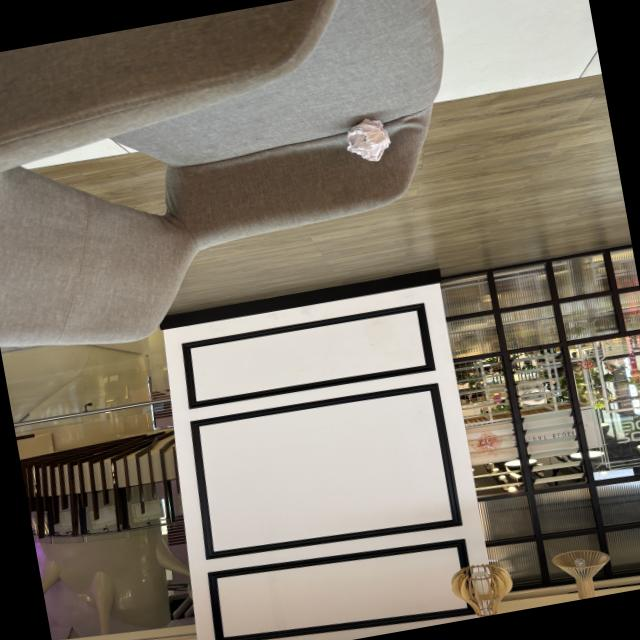crumpled_paper: (340, 110, 395, 170)
